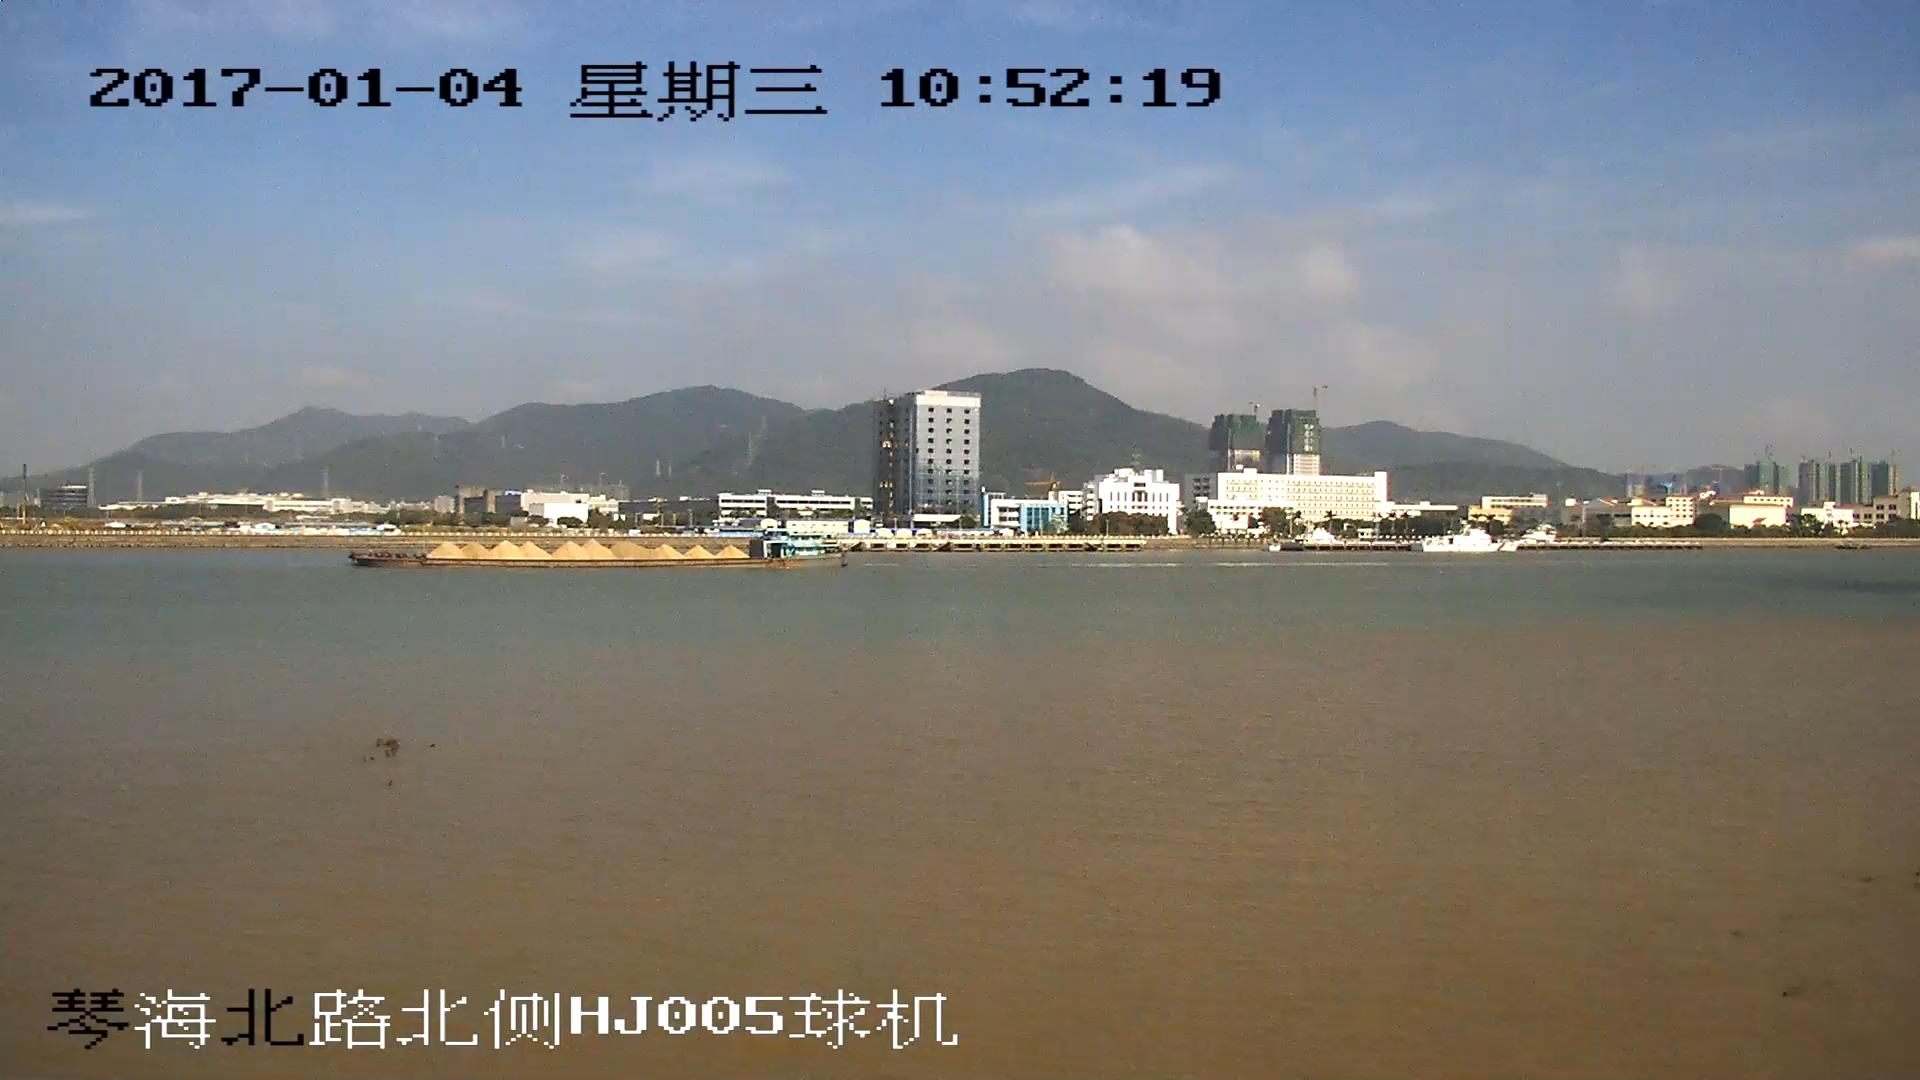ore carrier: (349, 529, 832, 569)
